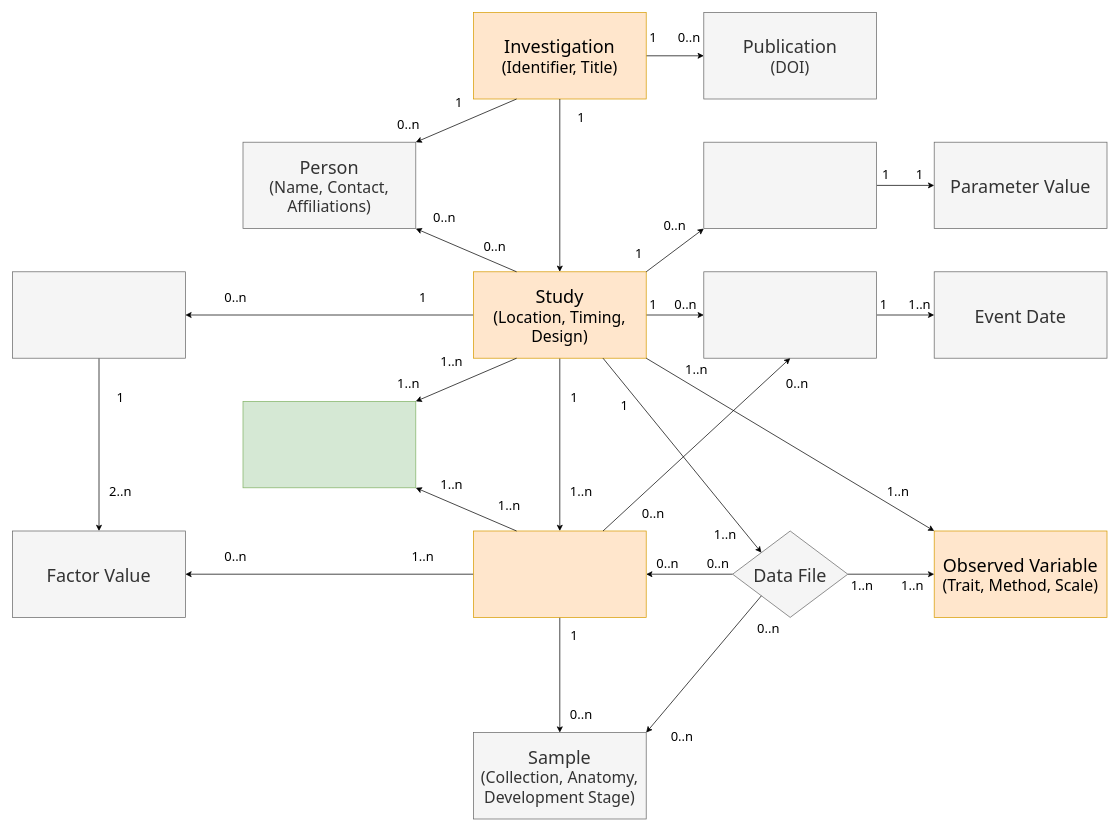
This 1120x832 diagram has some shape labels left out. The centre of each missing label's shape, as x and y in pixels:
Biological Material (Organism, Source): the point at 329,444
Environment Parameter: the point at 790,185
Event (Type, Description): the point at 790,314
Factor (Type): the point at 98,314
Observation Unit (Type, Coordinates): the point at 559,573
